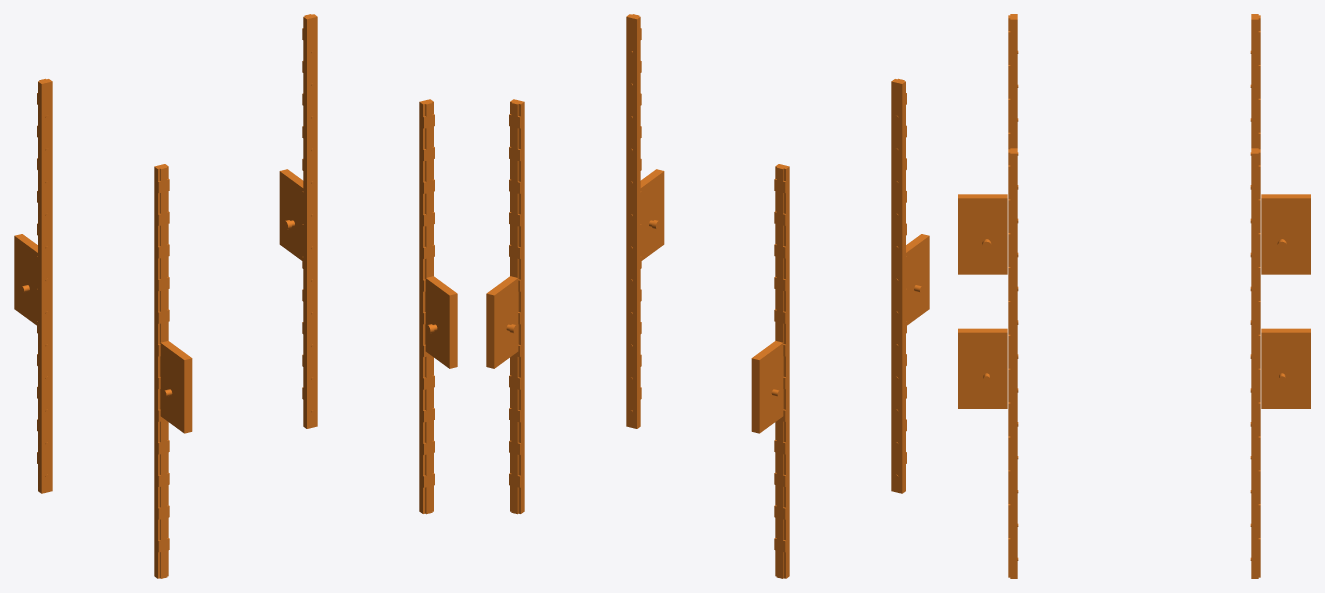
Rendered from a_cuts.glb.
3 renders of one model, left to right at view 1: azimuth 30°, elevation 25°; view 2: azimuth 150°, elevation 25°; view 3: azimuth 270°, elevation 25°, orthographic. The views are drawn at different scales.
Visible parts, largest first — view 1: BL_cut_ring_slot, BR_cut_ring_slot, FR_cut_ring_slot, FL_cut_ring_slot, FR_cut_panel, FL_cut_panel, BR_cut_panel, BL_cut_panel; view 2: FL_cut_ring_slot, FR_cut_ring_slot, BR_cut_ring_slot, BL_cut_ring_slot, BR_cut_panel, BL_cut_panel, FR_cut_panel, FL_cut_panel; view 3: FR_cut_ring_slot, BR_cut_ring_slot, FL_cut_panel, FR_cut_panel, BL_cut_panel, BR_cut_panel, FL_cut_ring_slot, BL_cut_ring_slot.
Boxes of the visible parts, box(x1,y1,x2,y2) form: BL_cut_ring_slot: box(37, 78, 52, 493); BR_cut_ring_slot: box(302, 14, 317, 428); FR_cut_ring_slot: box(419, 99, 434, 514); FL_cut_ring_slot: box(154, 164, 169, 578); FR_cut_panel: box(425, 276, 457, 368); FL_cut_panel: box(160, 341, 192, 433); BR_cut_panel: box(279, 169, 303, 260); BL_cut_panel: box(14, 234, 37, 325); FL_cut_ring_slot: box(891, 78, 906, 493); FR_cut_ring_slot: box(626, 14, 641, 428); BR_cut_ring_slot: box(509, 99, 524, 514); BL_cut_ring_slot: box(774, 164, 789, 578); BR_cut_panel: box(486, 276, 518, 368); BL_cut_panel: box(751, 341, 783, 433); FR_cut_panel: box(640, 169, 664, 260); FL_cut_panel: box(906, 234, 929, 325); FR_cut_ring_slot: box(1008, 148, 1018, 578); BR_cut_ring_slot: box(1250, 148, 1260, 578); FL_cut_panel: box(958, 194, 1007, 274); FR_cut_panel: box(958, 328, 1007, 408); BL_cut_panel: box(1261, 194, 1310, 274); BR_cut_panel: box(1261, 328, 1310, 408); FL_cut_ring_slot: box(1008, 14, 1018, 426); BL_cut_ring_slot: box(1250, 14, 1260, 426).
Bounding box in the file's own units: 0.365 × 0.502 × 0.3776.
